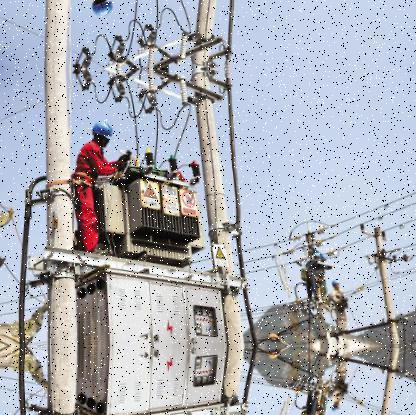helmet: (88, 117, 112, 147), (88, 0, 113, 20), (329, 277, 341, 289), (329, 401, 341, 413), (312, 249, 321, 261)
